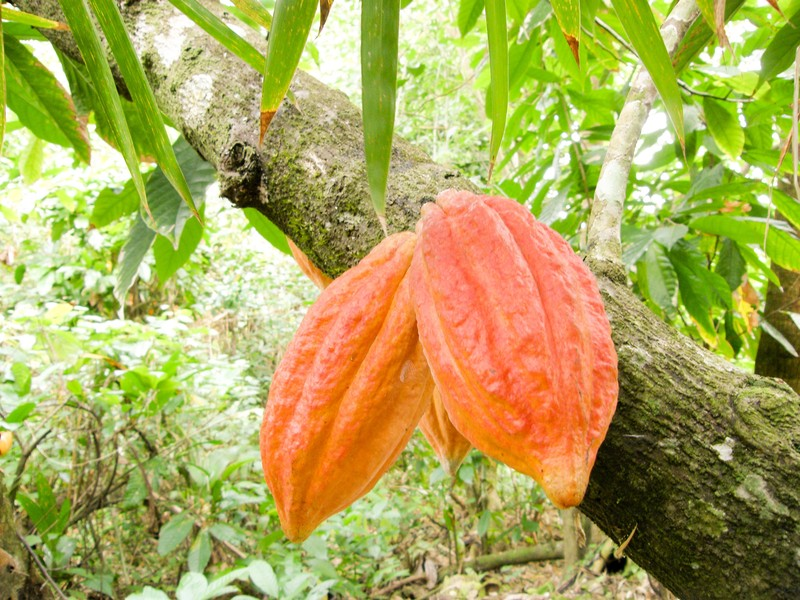Cacaopod: (410, 185, 621, 510)
